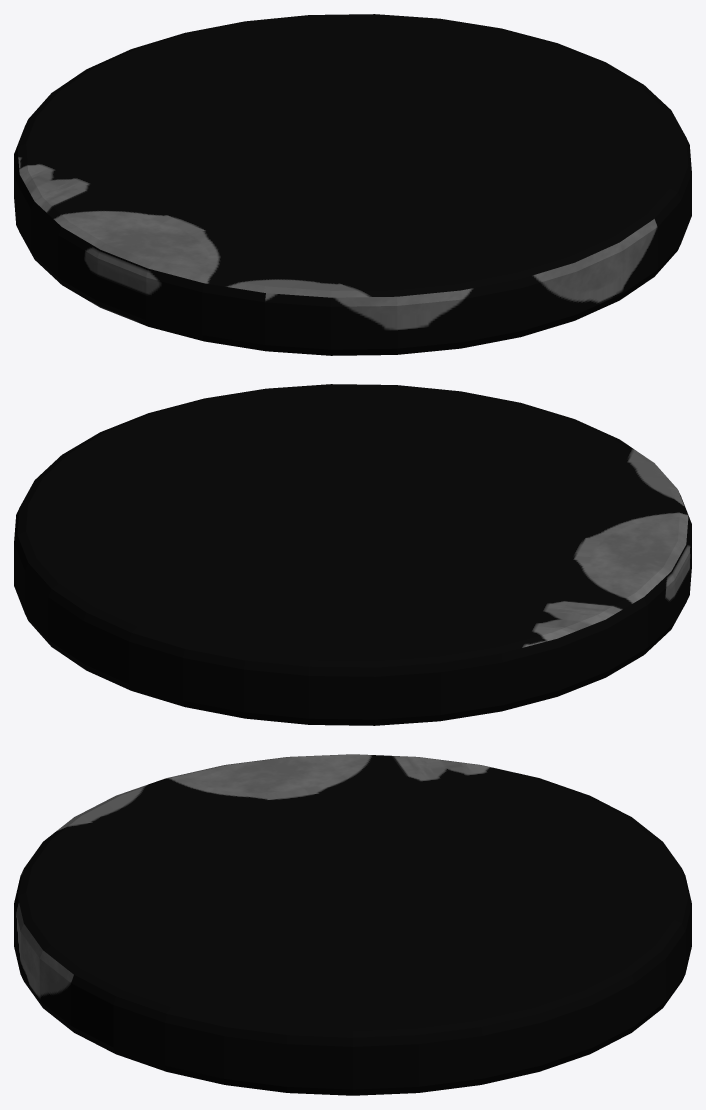
Rendered from Opstapje.fbx.
The picture shows the model from 3 angles, top to bottom: view 1: azimuth 30°, elevation 25°; view 2: azimuth 150°, elevation 25°; view 3: azimuth 270°, elevation 25°; orthographic projection.
Visible parts, largest first — view 1: Gate stair; view 2: Gate stair; view 3: Gate stair.
Boxes of the visible parts, x1,y1,x2,y2 form: Gate stair: (14,14,691,355); Gate stair: (14,384,691,725); Gate stair: (14,754,691,1095).
Size of the model in its own units: 568 by 122 by 568.
